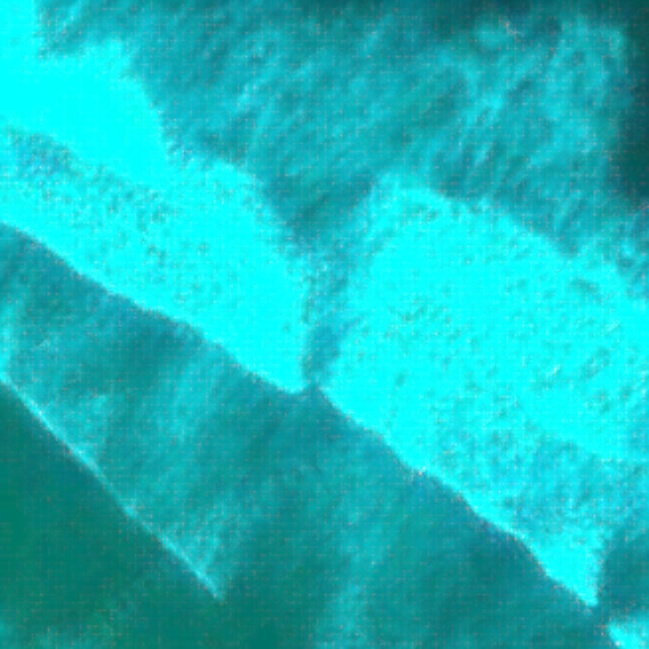rip_current: (242, 154, 395, 415)
